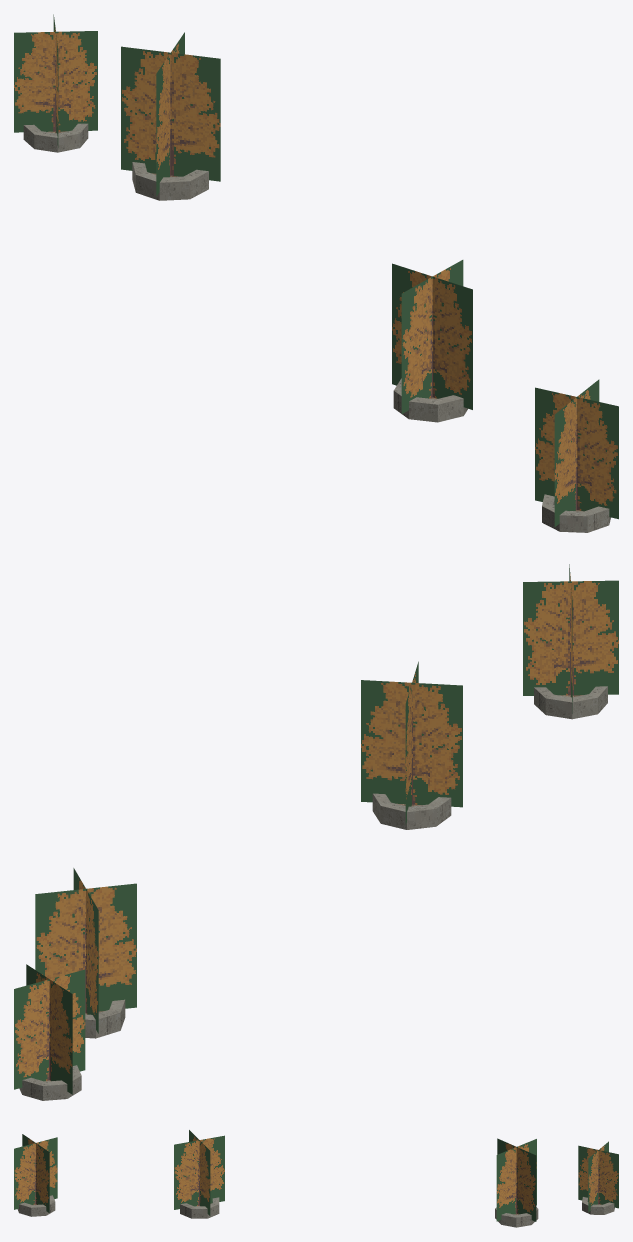
Rendered from procgen-procpain-tree-park-large-x2zm1.obj.
3 views of the same model, one above another, from view 1: azimuth 30°, elevation 25°; view 2: azimuth 150°, elevation 25°; view 3: azimuth 270°, elevation 25° (orthographic). The views are drawn at different scales.
Bounding box in the file's own units: 6.68 × 7.91 × 60.57.
